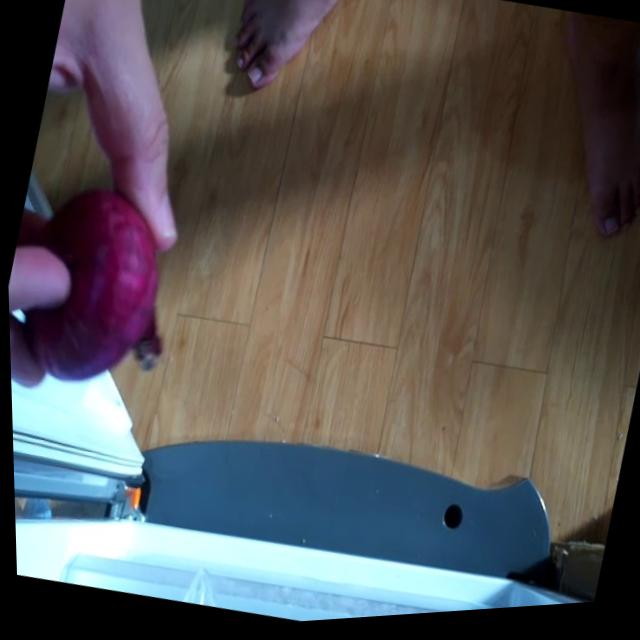onion: (4, 172, 173, 402)
